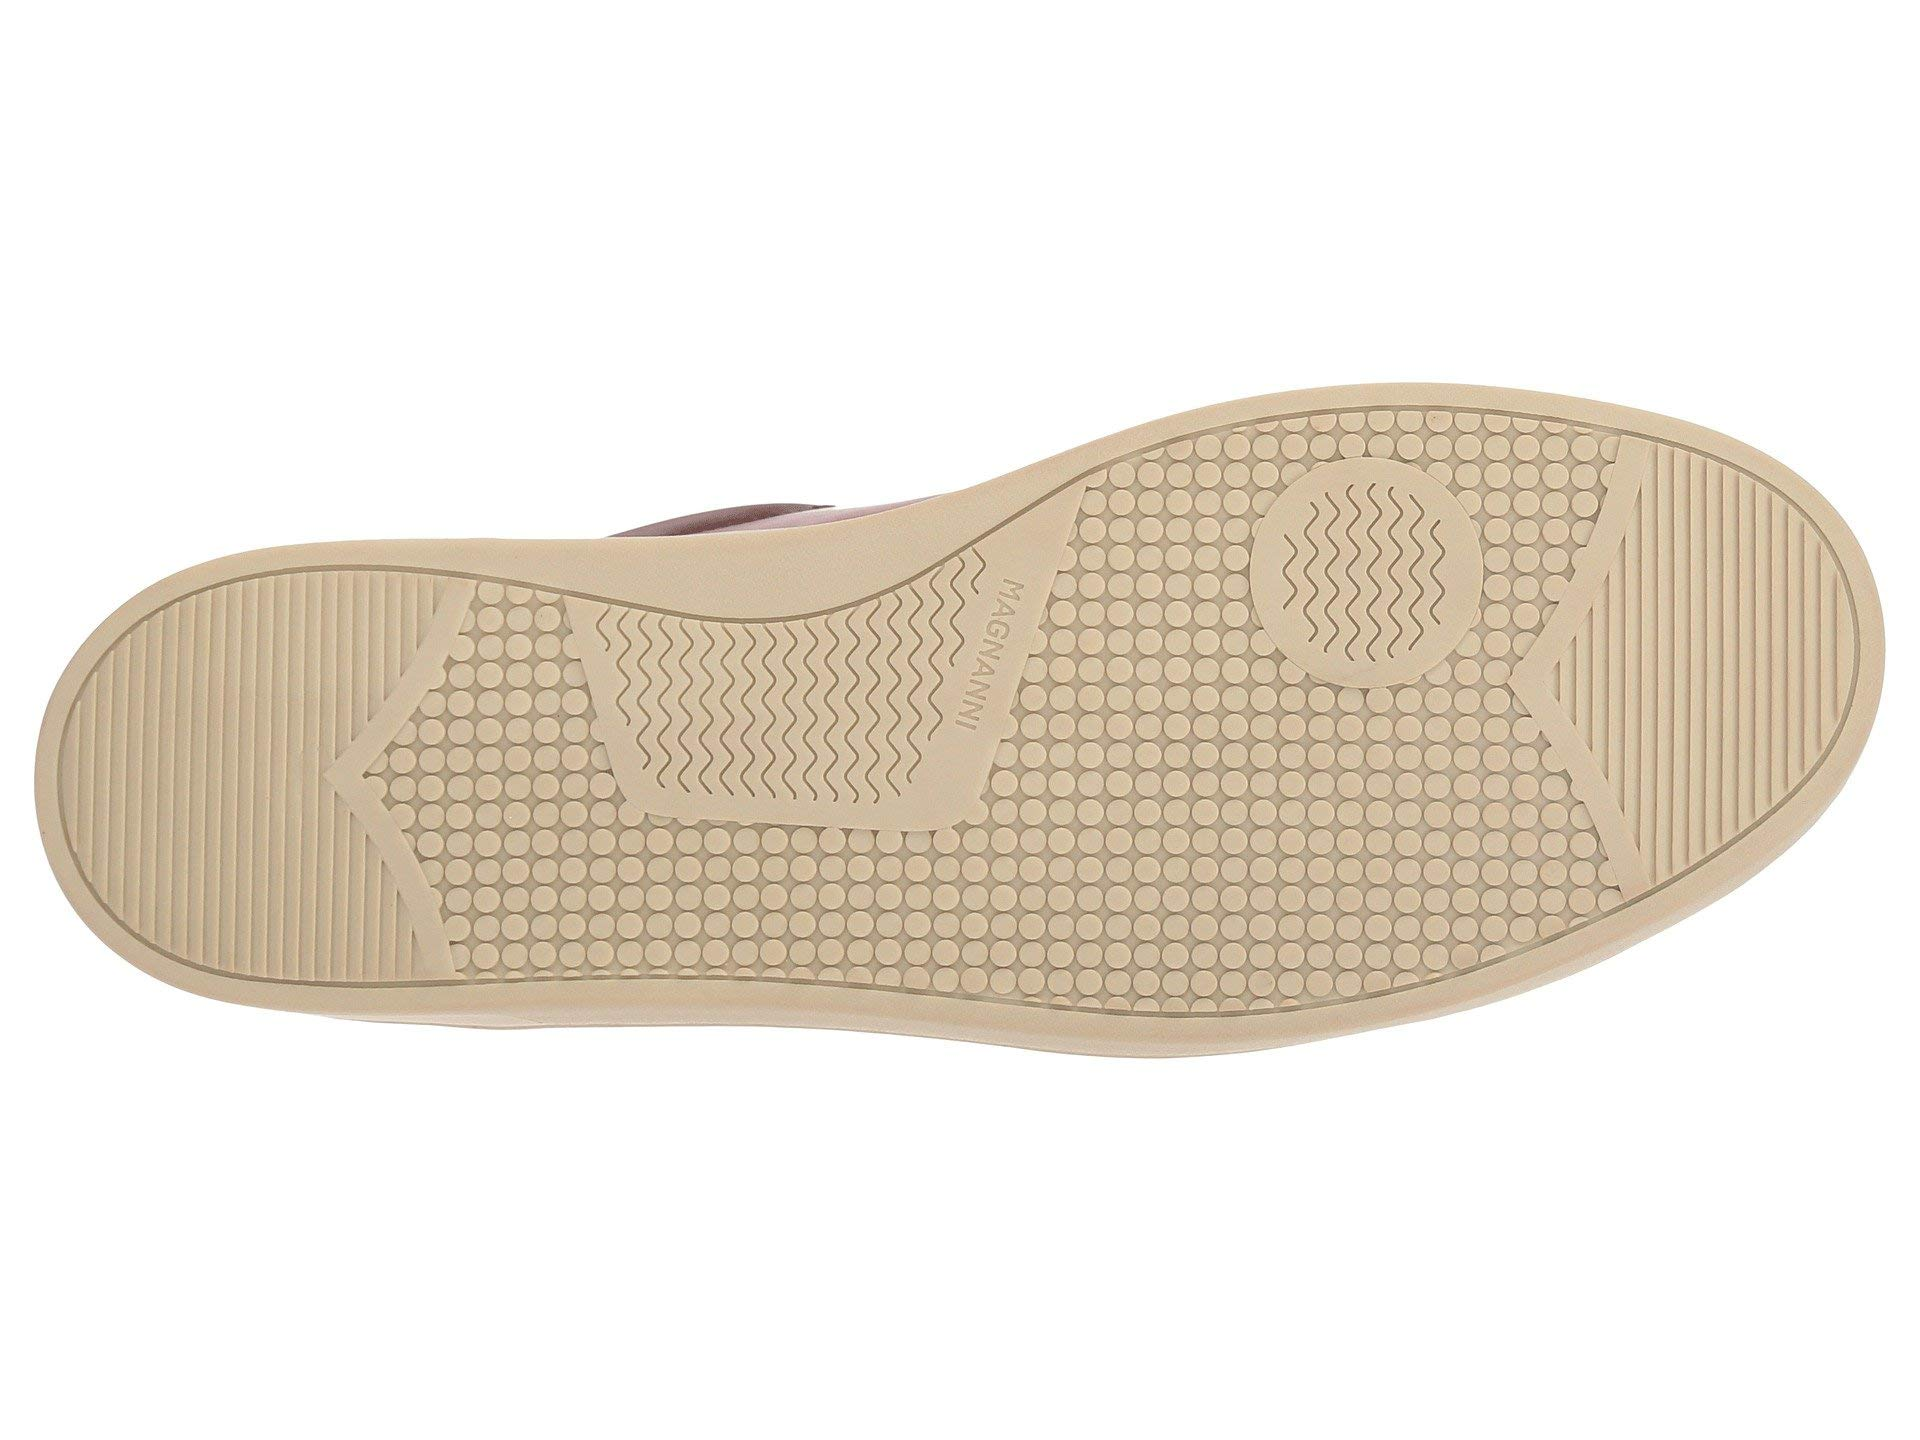chevron: (272, 567, 571, 973), (1240, 442, 1491, 706), (609, 604, 910, 781), (931, 555, 1070, 753)
circle: (272, 567, 571, 973), (1240, 442, 1491, 706), (1034, 808, 1463, 957), (931, 555, 1070, 753)
line: (272, 567, 571, 973), (1672, 513, 1798, 768)
text: (931, 555, 1070, 753)
